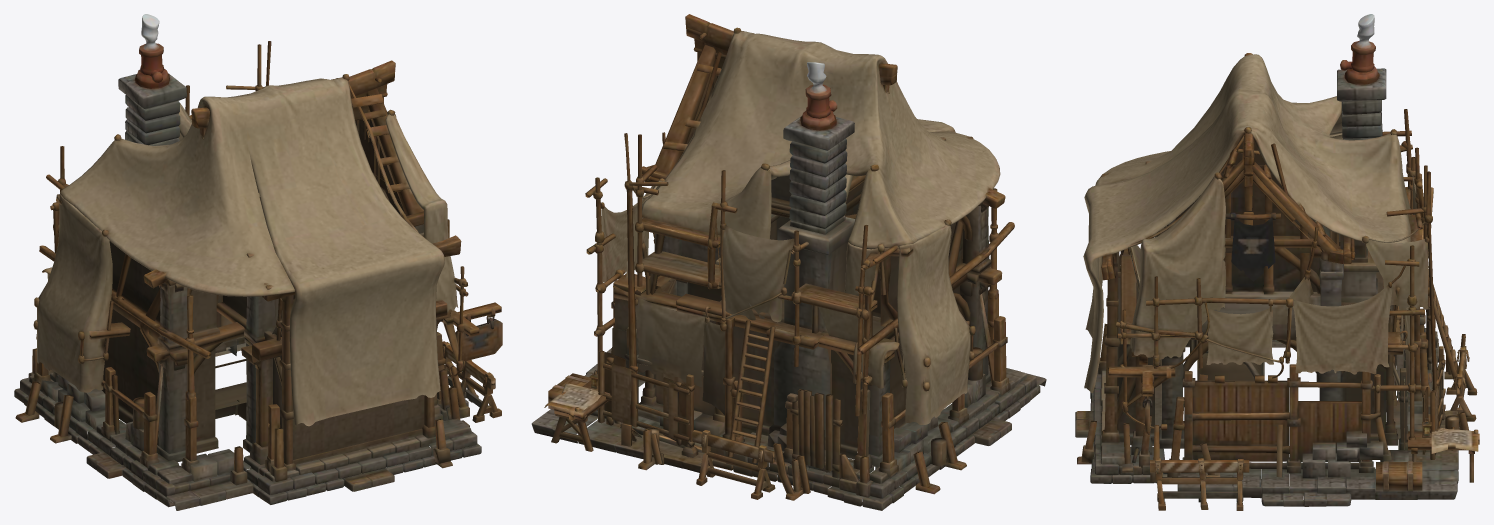
Rendered from jt_tarp_shack_c.glb.
3 renders of one model, left to right at view 1: azimuth 30°, elevation 25°; view 2: azimuth 150°, elevation 25°; view 3: azimuth 270°, elevation 25°, orthographic. The views are drawn at different scales.
Parts seen in each view (by area): view 1: tripo_node_a1bfc9f6; view 2: tripo_node_a1bfc9f6; view 3: tripo_node_a1bfc9f6.
Part boxes in pixels (x1,y1,x2,y2): tripo_node_a1bfc9f6: (14,14,502,510); tripo_node_a1bfc9f6: (531,14,1046,510); tripo_node_a1bfc9f6: (1075,14,1479,510).
Size of the model in its own units: 0.9995 by 0.9888 by 0.9595.
Materials: 1 (1 with a texture image).
